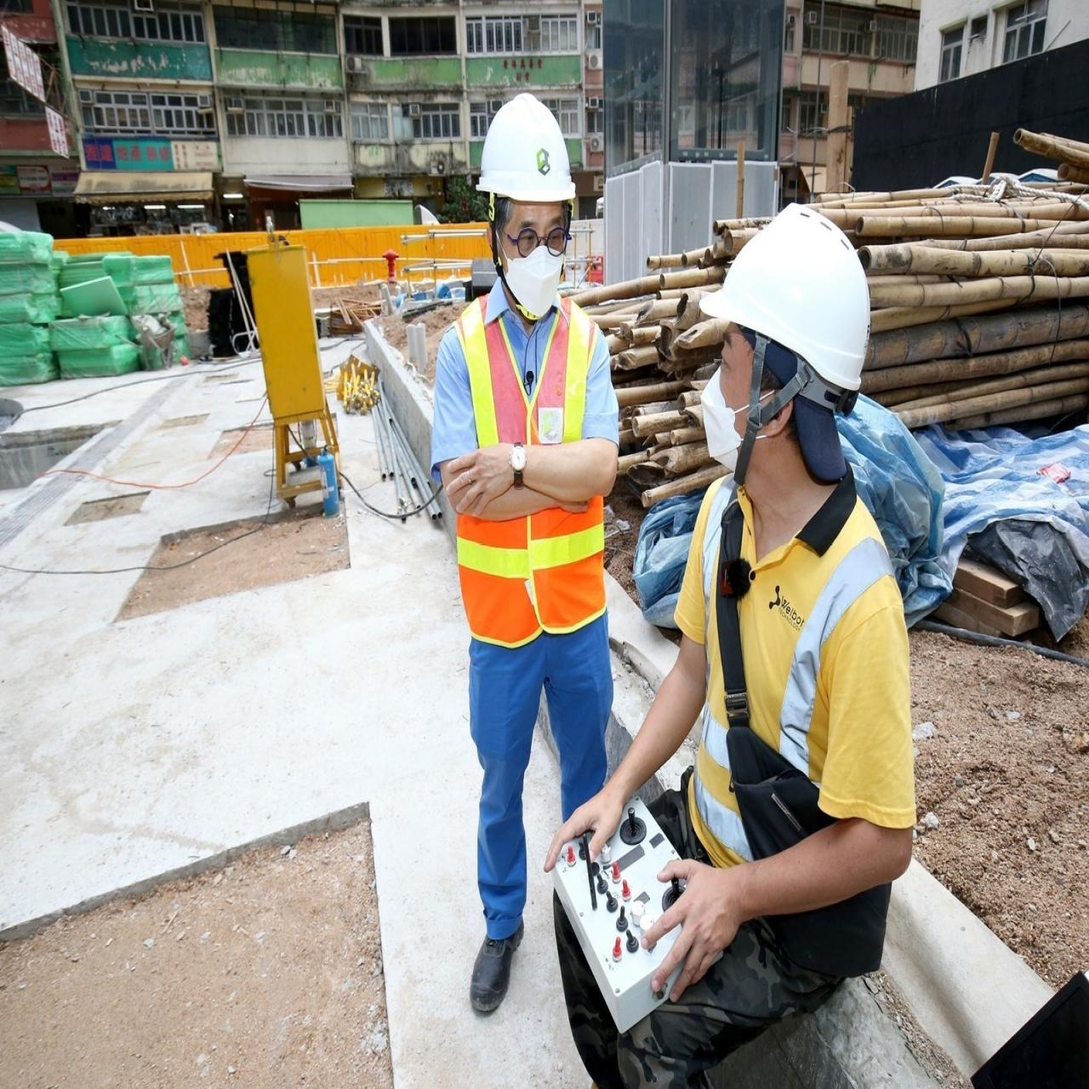NO_Safety_Vest: (668, 470, 926, 966)
Person: (561, 177, 932, 1089), (410, 77, 639, 1035)
Safety_Vest: (431, 288, 618, 656)
